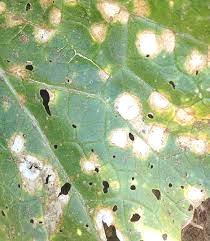Bok-Choy-Diseased: (3, 0, 208, 240)
